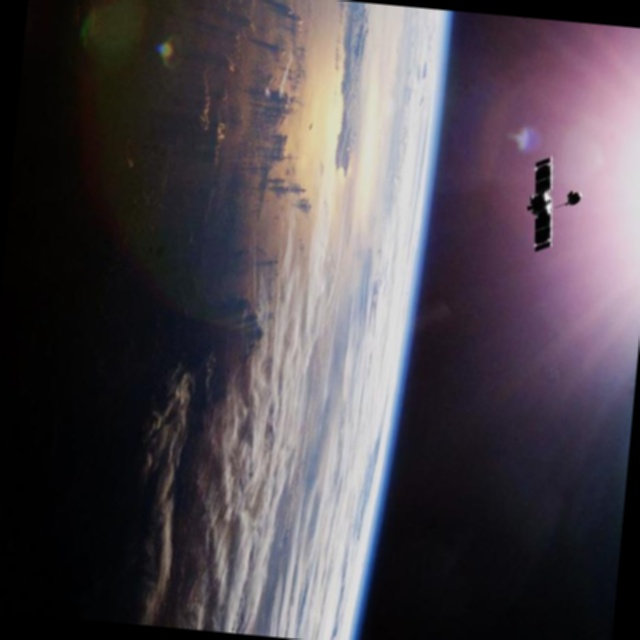satellite: (518, 145, 591, 264)
